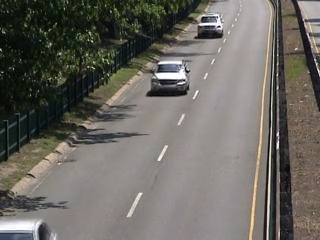car: (147, 58, 195, 97), (194, 10, 226, 39)
